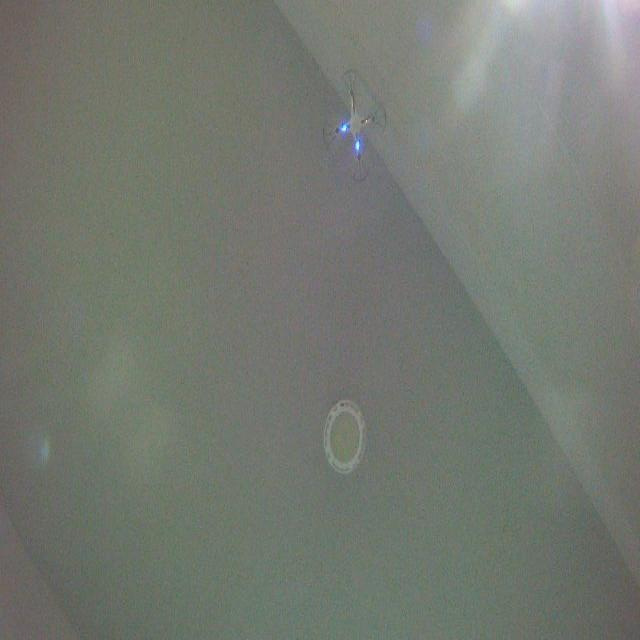drone: (321, 65, 388, 185)
